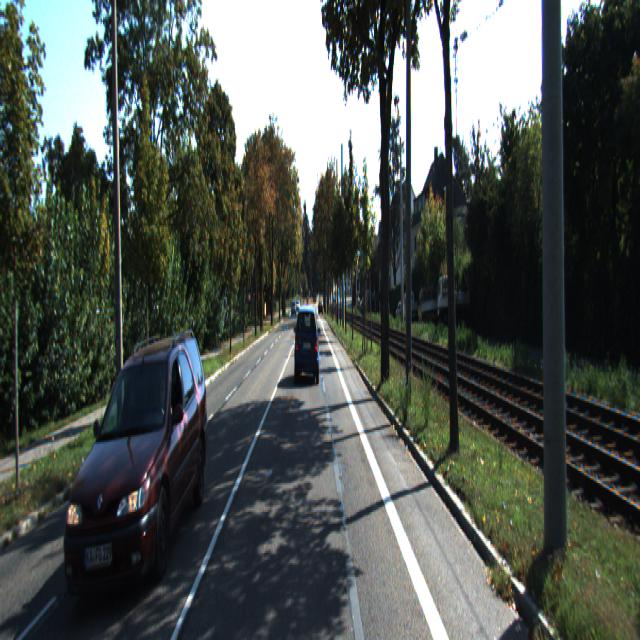Car: (69, 331, 211, 597), (294, 301, 320, 385), (436, 268, 469, 328), (418, 283, 440, 326)
